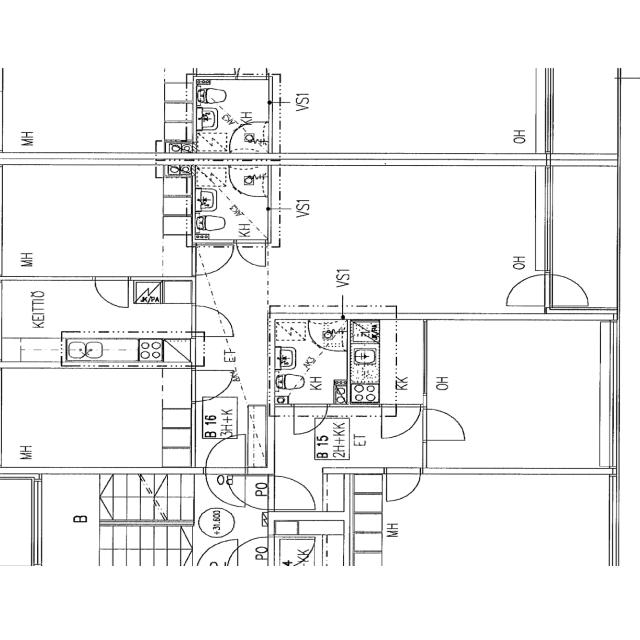door: (206, 467, 246, 506), (206, 435, 246, 473), (544, 274, 592, 305), (506, 274, 552, 305), (192, 369, 235, 402), (192, 306, 234, 336), (192, 245, 233, 275), (94, 276, 128, 307), (235, 239, 266, 267)
